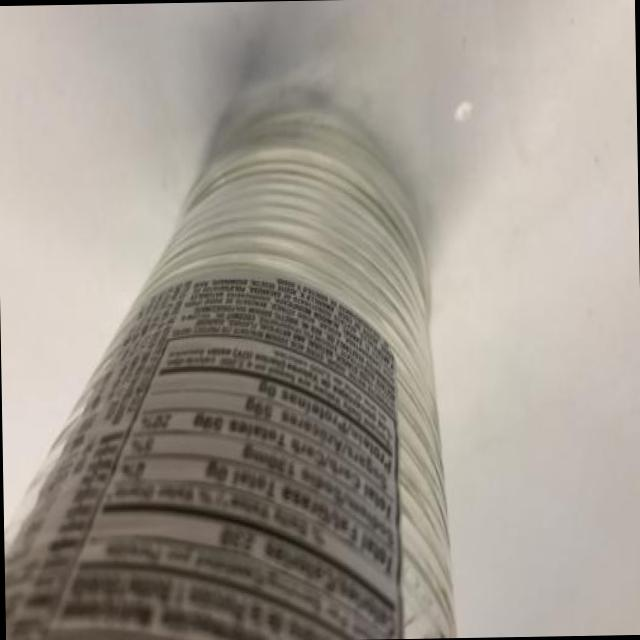chai_thuy_tinh: (4, 76, 458, 640)
